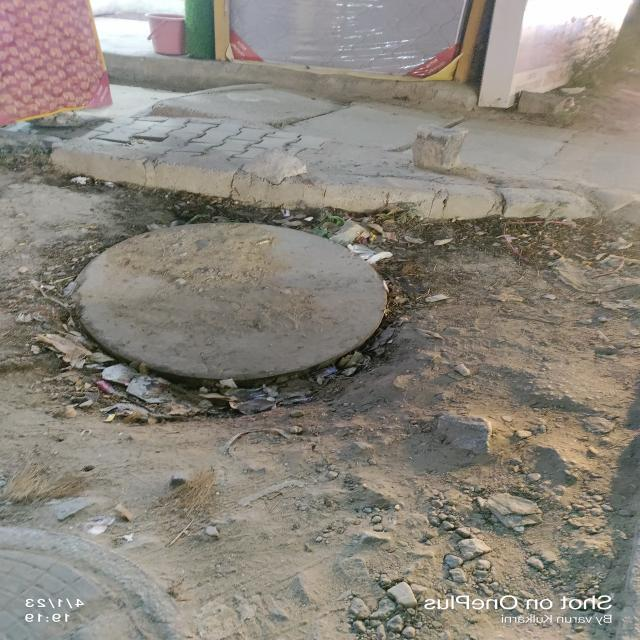manhole: (58, 218, 394, 414)
